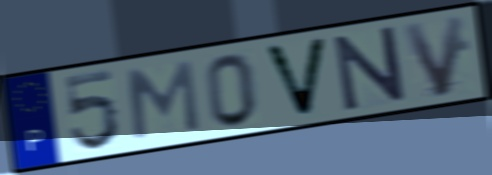0: (202, 50, 261, 131)
5: (63, 66, 123, 154)
M: (124, 57, 203, 142)
N: (330, 23, 409, 115)
V: (398, 11, 468, 101), (260, 35, 331, 120)
